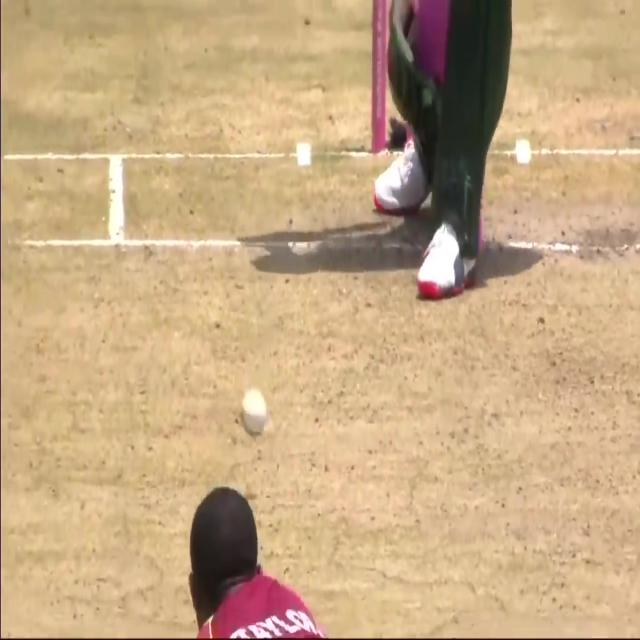Batsman: (232, 370, 274, 450)
